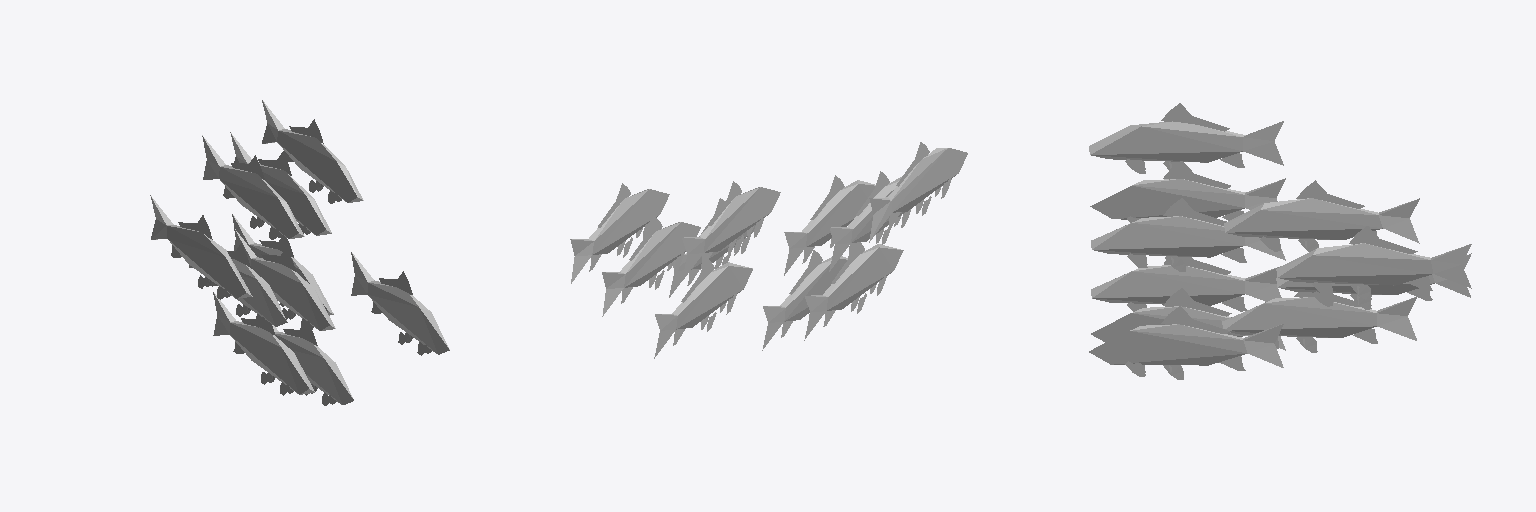
File: fish1.obj
3 renders of one model, left to right at view 1: azimuth 30°, elevation 25°; view 2: azimuth 150°, elevation 25°; view 3: azimuth 270°, elevation 25°, orthographic.
Size of the model in its own units: 3.75 by 3.47 by 5.85.